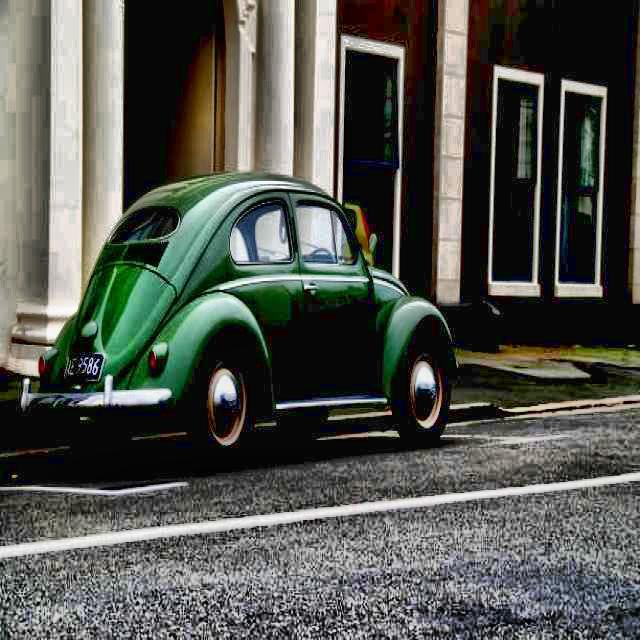carro: (15, 181, 457, 441)
